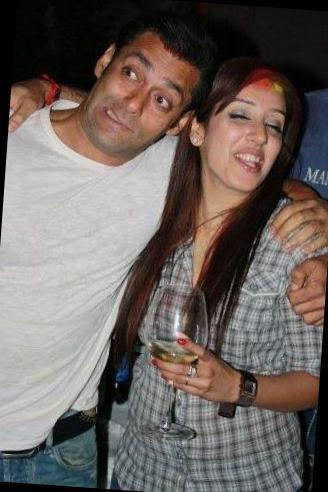Drunk: (99, 36, 179, 145), (212, 80, 282, 185)
